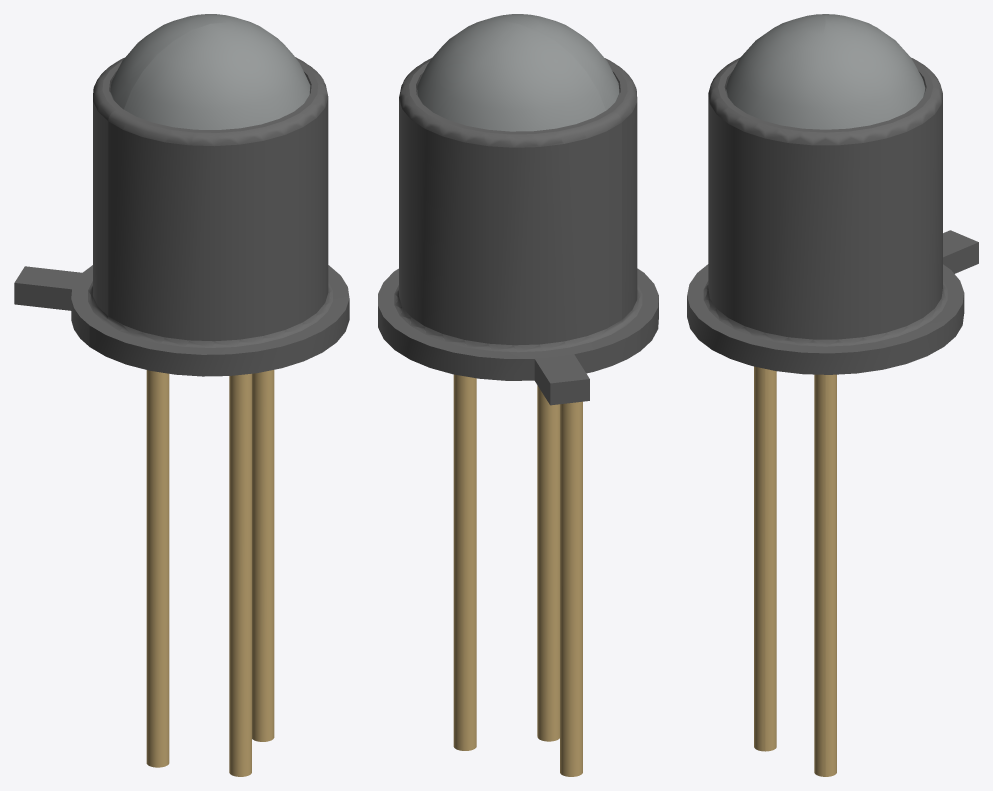
Rendered from kc-to-18-3_lens.glb.
The picture shows the model from 3 angles, left to right: view 1: azimuth 30°, elevation 25°; view 2: azimuth 150°, elevation 25°; view 3: azimuth 270°, elevation 25°; orthographic projection.
Parts seen in each view (by area): view 1: 0.16666666666666666_0.16666666666666666_0.16666666666666666_, 0.75_0.5_0.25_0.9, 0.25_0.3333333333333333_0.3333333333333333_0; view 2: 0.16666666666666666_0.16666666666666666_0.16666666666666666_, 0.75_0.5_0.25_0.9, 0.25_0.3333333333333333_0.3333333333333333_0; view 3: 0.16666666666666666_0.16666666666666666_0.16666666666666666_, 0.75_0.5_0.25_0.9, 0.25_0.3333333333333333_0.3333333333333333_0.
Boxes of the visible parts, box(x1,y1,x2,y2) form: 0.16666666666666666_0.16666666666666666_0.16666666666666666_: box(14, 57, 349, 376); 0.75_0.5_0.25_0.9: box(146, 370, 274, 776); 0.25_0.3333333333333333_0.3333333333333333_0: box(110, 14, 310, 129); 0.16666666666666666_0.16666666666666666_0.16666666666666666_: box(378, 57, 658, 405); 0.75_0.5_0.25_0.9: box(453, 374, 582, 776); 0.25_0.3333333333333333_0.3333333333333333_0: box(417, 14, 619, 131); 0.16666666666666666_0.16666666666666666_0.16666666666666666_: box(687, 58, 978, 374); 0.75_0.5_0.25_0.9: box(754, 366, 836, 776); 0.25_0.3333333333333333_0.3333333333333333_0: box(726, 14, 925, 129).
Size of the model in its own units: 0.6147 by 1.68 by 0.6148.
